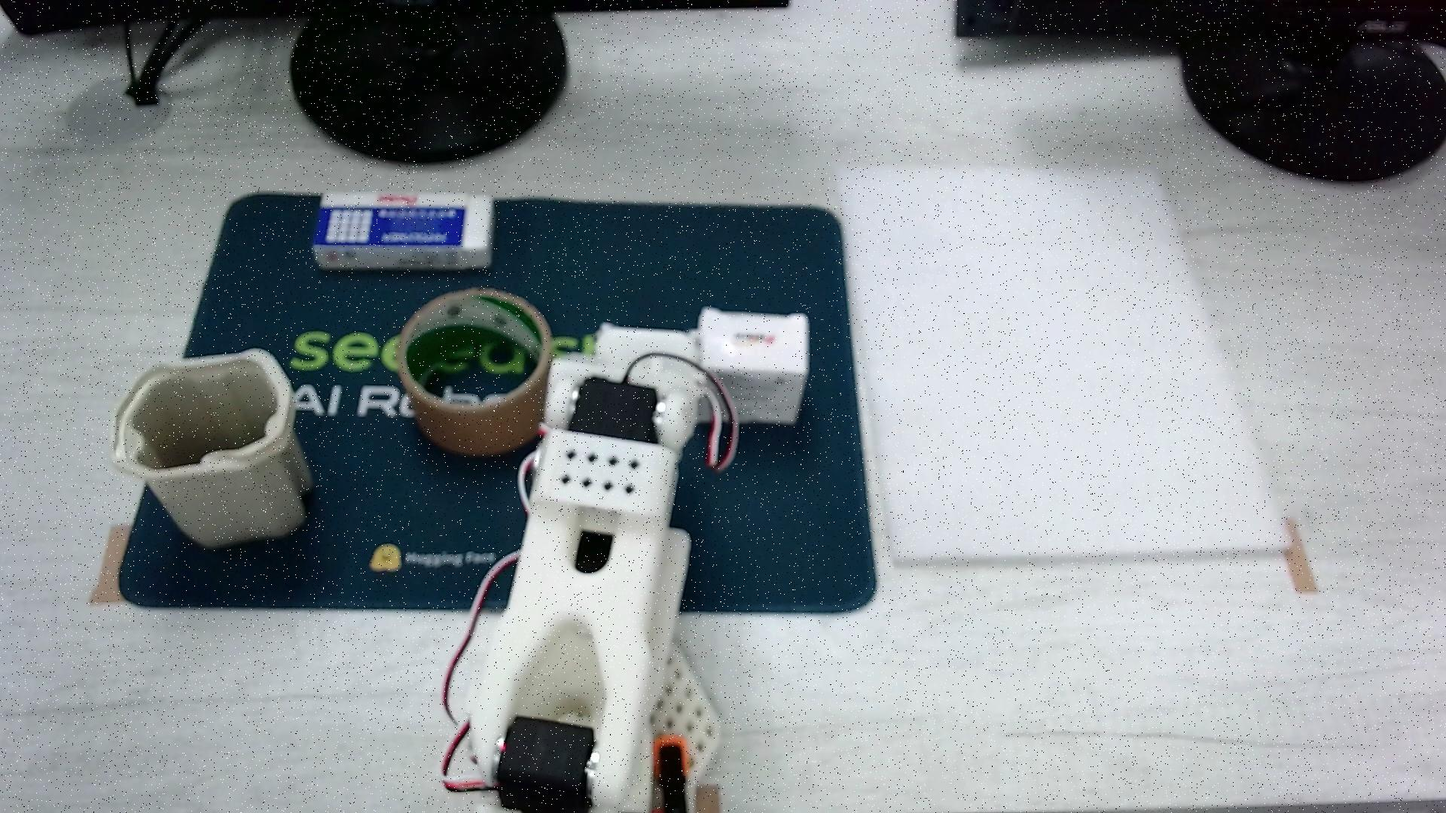eraser: (697, 307, 809, 424)
